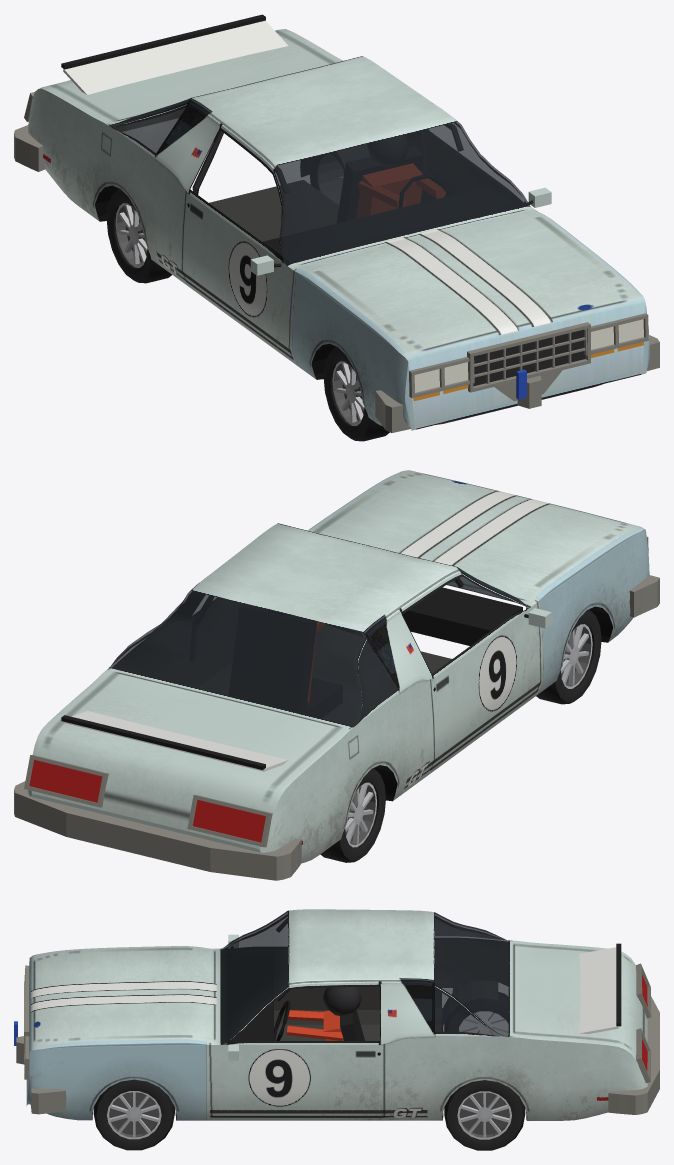
3 renders of one model, top to bottom at view 1: azimuth 30°, elevation 25°; view 2: azimuth 150°, elevation 25°; view 3: azimuth 270°, elevation 25°, orthographic. The views are drawn at different scales.
Visible parts, largest first — view 1: body, wheel_fr, wheel_rr, wheel_rl; view 2: body, wheel_rr, wheel_fr; view 3: body, wheel_fl, wheel_rl, wheel_rr.
Boxes of the visible parts, x1,y1,x2,y2 form: body: (14, 14, 659, 432); wheel_fr: (323, 346, 389, 441); wheel_rr: (106, 188, 171, 283); wheel_rl: (309, 152, 344, 204); body: (14, 470, 659, 880); wheel_rr: (320, 768, 385, 862); wheel_fr: (536, 609, 601, 704); body: (14, 909, 659, 1120); wheel_fl: (93, 1079, 174, 1150); wheel_rl: (444, 1080, 525, 1150); wheel_rr: (444, 992, 508, 1036).
Bounding box in the file's own units: 2.11 × 1.37 × 4.94.
Materials: 2 (1 with a texture image).
